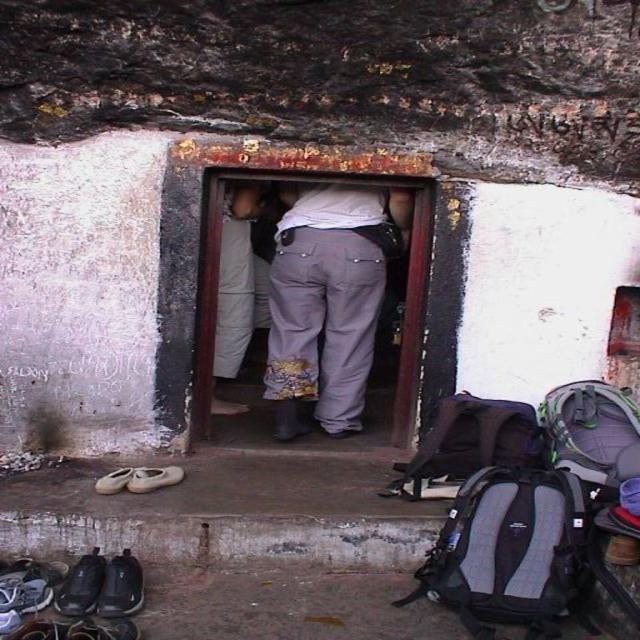backpack: (422, 466, 592, 626), (418, 398, 532, 486), (544, 374, 636, 478)
